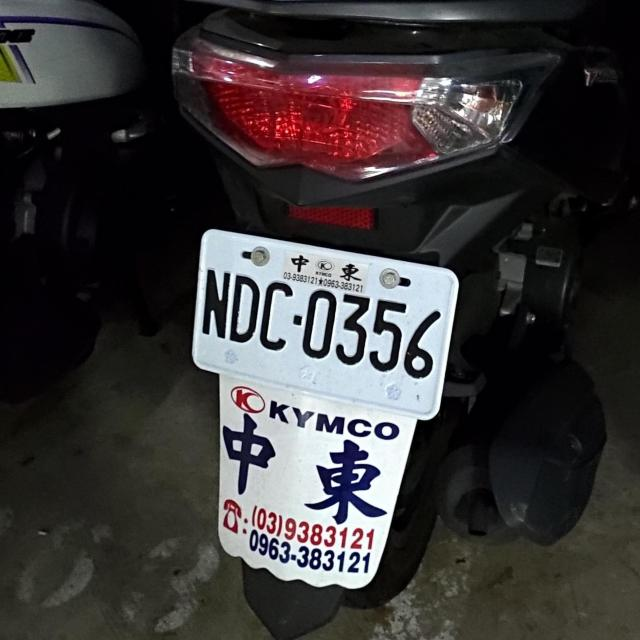W: (181, 221, 464, 414)
